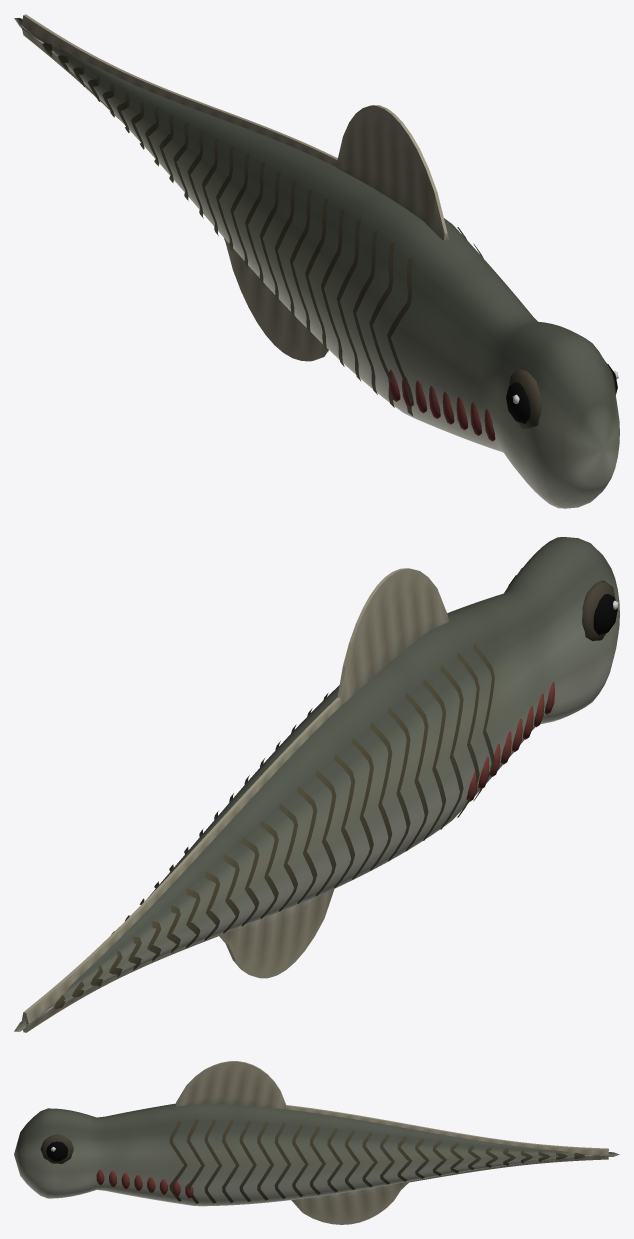
Rendered from Haikouichthys.fbx.
3 renders of one model, top to bottom at view 1: azimuth 30°, elevation 25°; view 2: azimuth 150°, elevation 25°; view 3: azimuth 270°, elevation 25°, orthographic. The views are drawn at different scales.
Visible parts, largest first — view 1: Haikouichthys; view 2: Haikouichthys; view 3: Haikouichthys.
Boxes of the visible parts, x1,y1,x2,y2 form: Haikouichthys: (14, 14, 619, 508); Haikouichthys: (14, 537, 619, 1032); Haikouichthys: (14, 1061, 619, 1224).
Size of the model in its own units: 0.1071 by 0.312 by 1.05.
